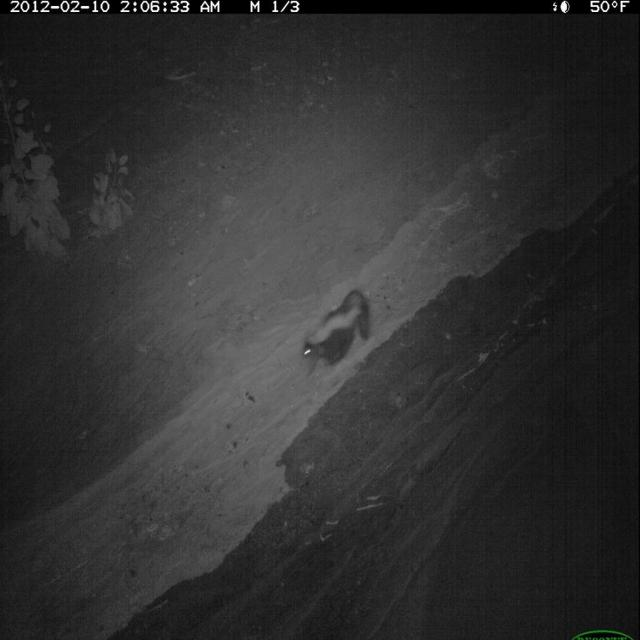skunk: (296, 287, 376, 385)
